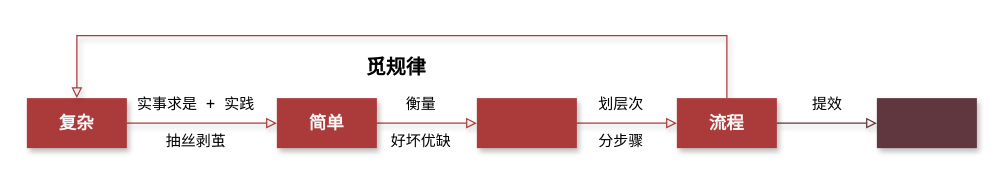
This 1005x183 diagram has some shape labels left out. Here are the shapes that lost their labels. From the top down, the centre of each, then its label:
At (527,124): "标准".
At (927,124): "自动化".
